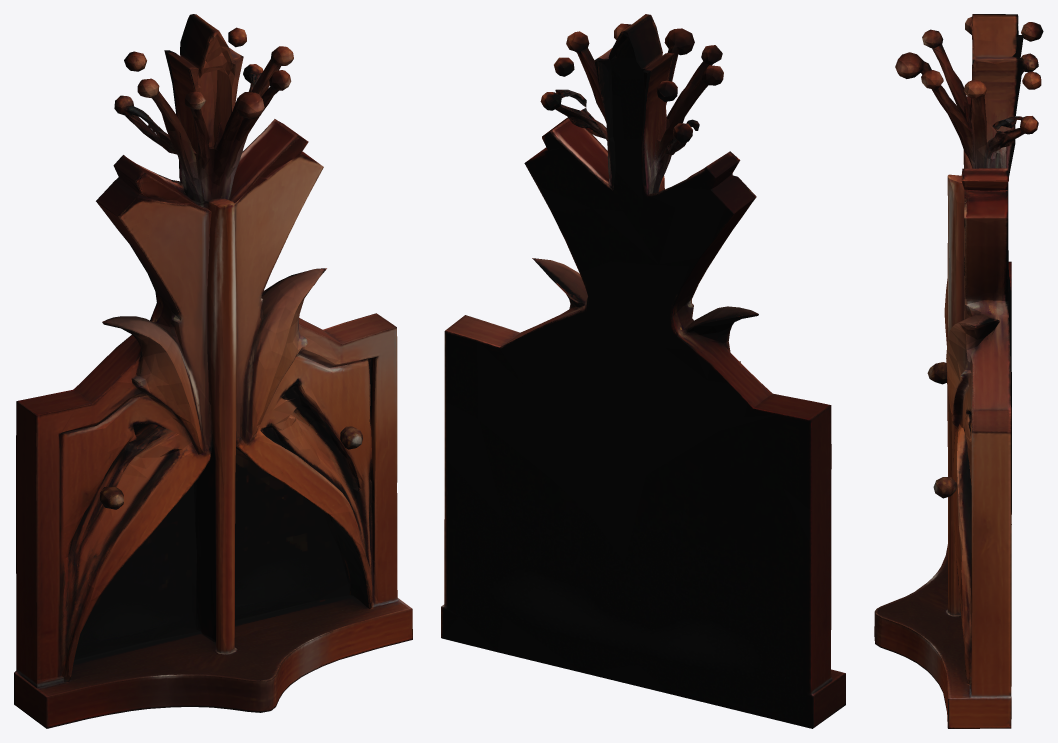
Rendered from wooden-coat-rack-art-deco.jpeg.glb.
The picture shows the model from 3 angles, left to right: view 1: azimuth 30°, elevation 25°; view 2: azimuth 150°, elevation 25°; view 3: azimuth 270°, elevation 25°; orthographic projection. The views are drawn at different scales.
Visible parts, largest first — view 1: world; view 2: world; view 3: world.
Boxes of the visible parts, box(x1,y1,x2,y2) form: world: box(14, 14, 412, 728); world: box(441, 14, 845, 728); world: box(874, 14, 1043, 728).
Size of the model in its own units: 0.5948 by 1 by 0.2448.
1 material, 1 textured.
